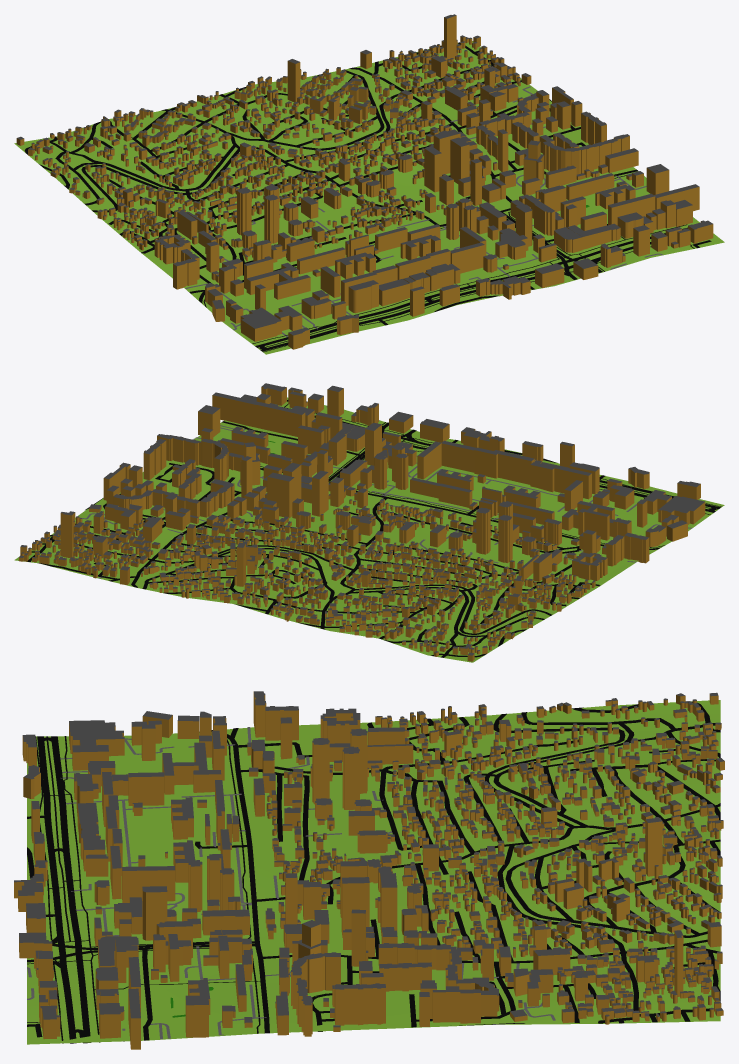
Rendered from tile_02_05.glb.
3 renders of one model, top to bottom at view 1: azimuth 30°, elevation 25°; view 2: azimuth 150°, elevation 25°; view 3: azimuth 270°, elevation 25°, orthographic. The views are drawn at different scales.
Visible parts, largest first — view 1: Ub_small.osm_buildings_02_05, Terrain_02_05, Ub_small.osm_roads_residential_02_05, Ub_small.osm_roads_primary_02_05, Ub_small.osm_roads_service_02_05, Ub_small.osm_roads_tertiary_02_05, Ub_small.osm_paths_footway_02_05; view 2: Ub_small.osm_buildings_02_05, Terrain_02_05, Ub_small.osm_roads_residential_02_05, Ub_small.osm_roads_service_02_05, Ub_small.osm_roads_tertiary_02_05, Ub_small.osm_paths_footway_02_05; view 3: Ub_small.osm_buildings_02_05, Terrain_02_05, Ub_small.osm_roads_residential_02_05, Ub_small.osm_roads_primary_02_05, Ub_small.osm_roads_service_02_05, Ub_small.osm_roads_tertiary_02_05, Ub_small.osm_paths_footway_02_05.
Boxes of the visible parts, x1,y1,x2,y2 form: Ub_small.osm_buildings_02_05: [16, 14, 713, 349]; Terrain_02_05: [14, 41, 724, 354]; Ub_small.osm_roads_residential_02_05: [24, 42, 711, 325]; Ub_small.osm_roads_primary_02_05: [255, 227, 687, 351]; Ub_small.osm_roads_service_02_05: [185, 59, 662, 337]; Ub_small.osm_roads_tertiary_02_05: [39, 67, 637, 303]; Ub_small.osm_paths_footway_02_05: [203, 175, 694, 352]; Ub_small.osm_buildings_02_05: [19, 383, 705, 661]; Terrain_02_05: [14, 397, 724, 662]; Ub_small.osm_roads_residential_02_05: [27, 400, 604, 657]; Ub_small.osm_roads_service_02_05: [80, 406, 692, 578]; Ub_small.osm_roads_tertiary_02_05: [131, 451, 660, 646]; Ub_small.osm_paths_footway_02_05: [260, 404, 721, 547]; Ub_small.osm_buildings_02_05: [14, 691, 724, 1049]; Terrain_02_05: [27, 700, 720, 1044]; Ub_small.osm_roads_residential_02_05: [27, 701, 720, 1040]; Ub_small.osm_roads_primary_02_05: [37, 736, 91, 1043]; Ub_small.osm_roads_service_02_05: [27, 727, 716, 1041]; Ub_small.osm_roads_tertiary_02_05: [78, 704, 707, 1033]; Ub_small.osm_paths_footway_02_05: [27, 736, 261, 1043].
Bounding box in the file's own units: 1019 × 134 × 953.
